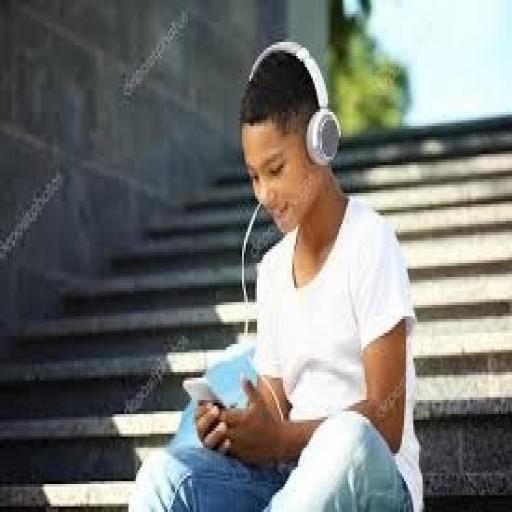listening_to_music: (126, 36, 426, 510)
